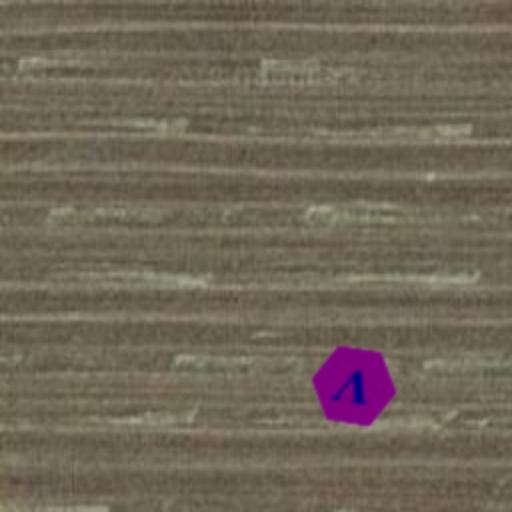hexagon: (302, 334, 406, 438)
